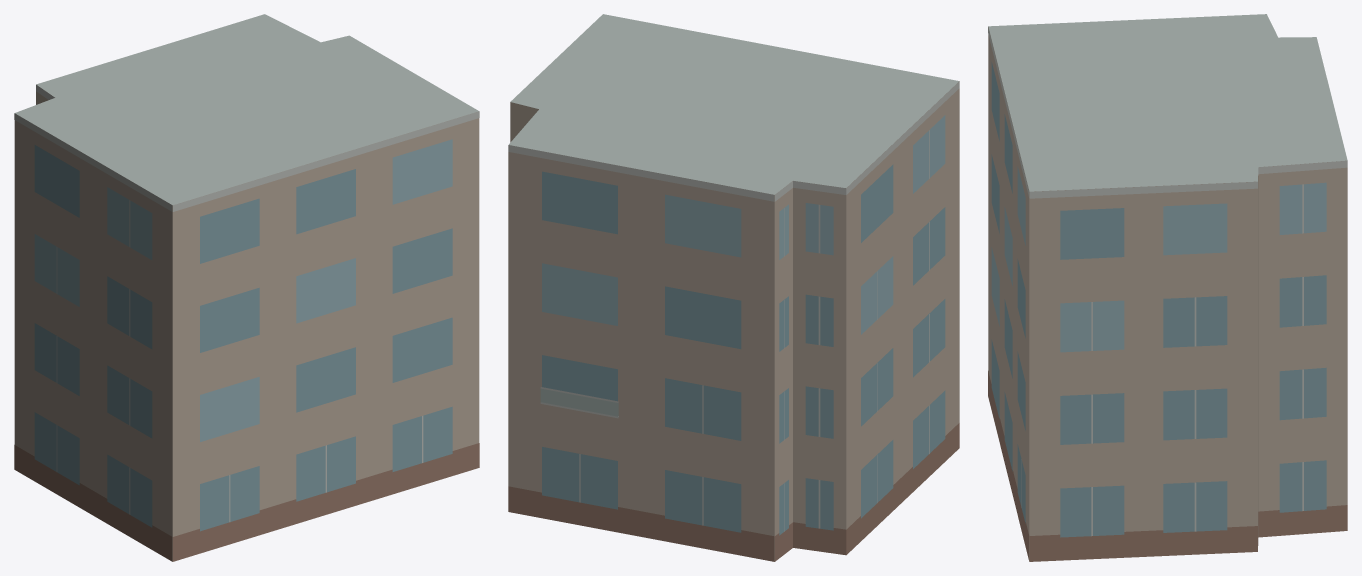
Rendered from survey-upis-32919586.glb.
The picture shows the model from 3 angles, left to right: view 1: azimuth 30°, elevation 25°; view 2: azimuth 150°, elevation 25°; view 3: azimuth 270°, elevation 25°; orthographic projection. The views are drawn at different scales.
Parts seen in each view (by area): view 1: survey-upis-32919586.tmp; view 2: survey-upis-32919586.tmp; view 3: survey-upis-32919586.tmp.
Boxes of the visible parts, left/top/right/bottom form: survey-upis-32919586.tmp: left=14, top=14, right=479, bottom=561; survey-upis-32919586.tmp: left=508, top=14, right=959, bottom=561; survey-upis-32919586.tmp: left=988, top=14, right=1347, bottom=561.
Bounding box in the file's own units: 13.18 × 12.8 × 11.27.
